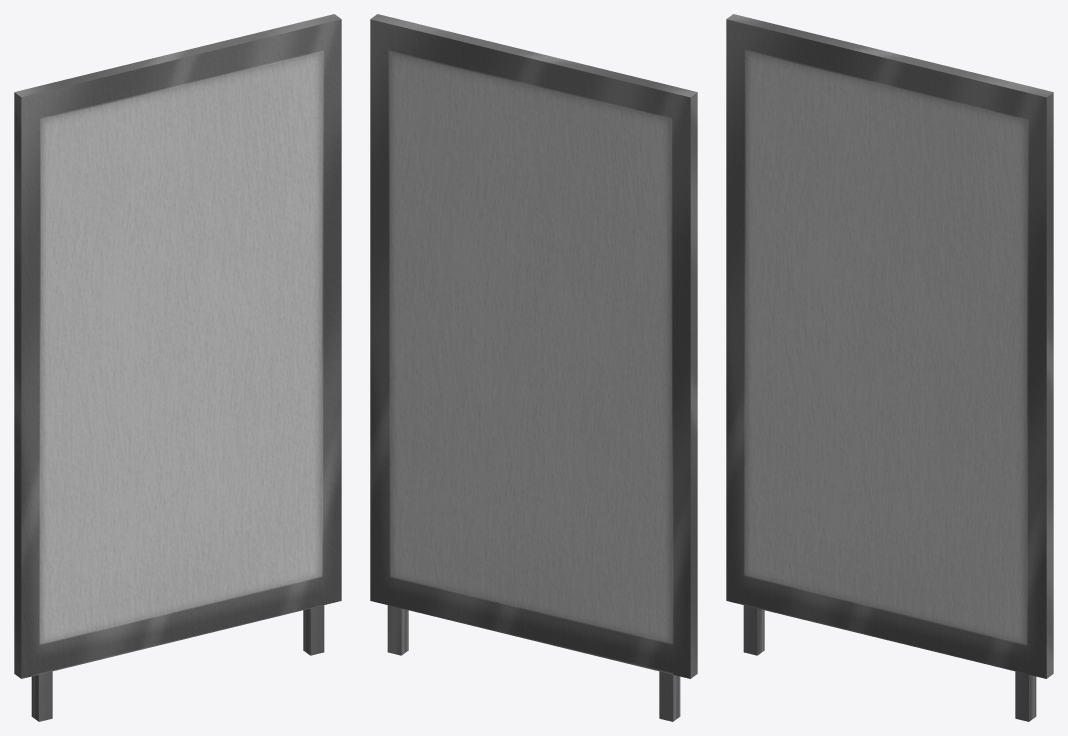
The model's file is ToiletWall.FBX.
The picture shows the model from 3 angles, left to right: view 1: azimuth 30°, elevation 25°; view 2: azimuth 150°, elevation 25°; view 3: azimuth 330°, elevation 25°; orthographic projection.
Parts seen in each view (by area): view 1: Box086; view 2: Box086; view 3: Box086.
Part boxes in pixels (<box>): Box086: <box>14,14,341,721</box>; Box086: <box>370,14,697,721</box>; Box086: <box>726,14,1053,721</box>.
Size of the model in its own units: 23.05 by 43.25 by 0.9015.
Materials: 1 (1 with a texture image).
